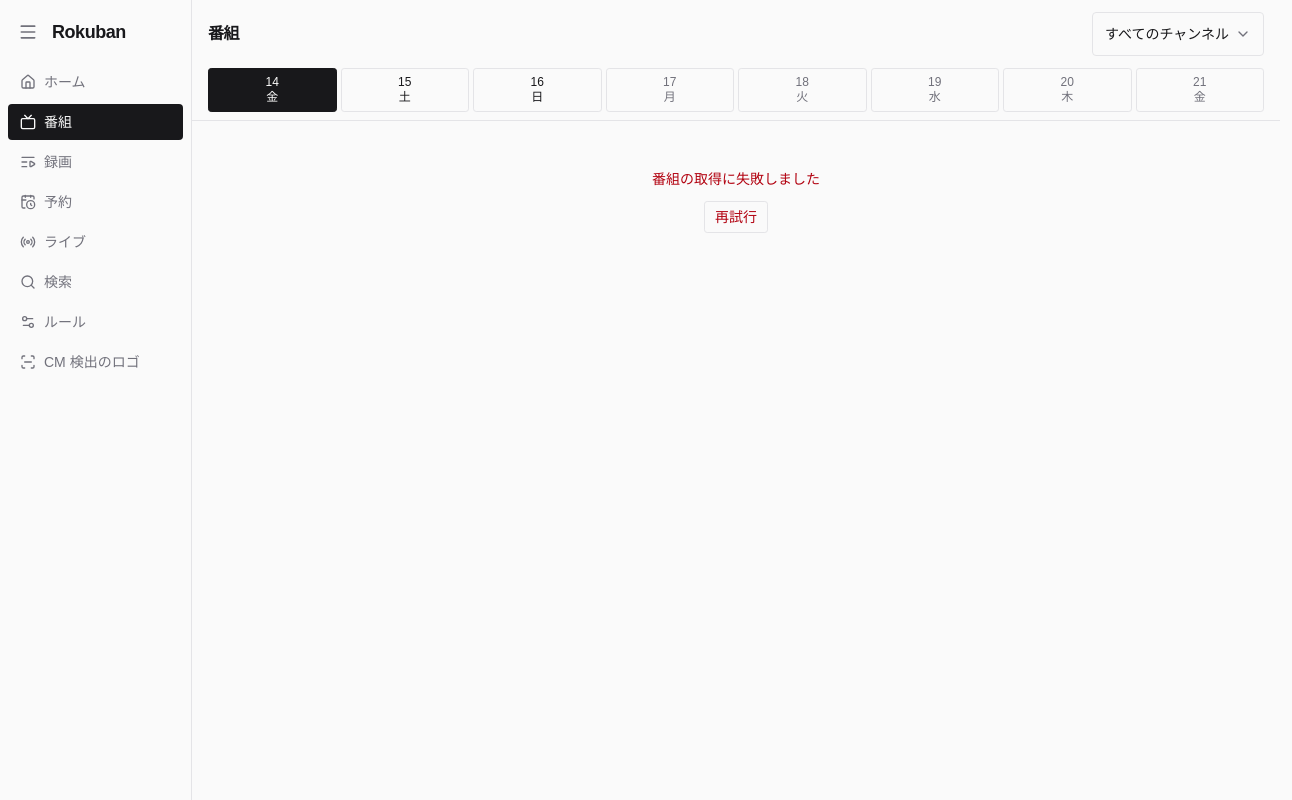
ProgramsPage の表示形式 › /api/sites の失敗を永久スケルトンにせず、再試行で一覧を復旧する
Check: the text "番組の取得に失敗しました" is shown, box [652,169,820,189]
Click the button "再試行" at (736, 217), box [704,201,768,233]
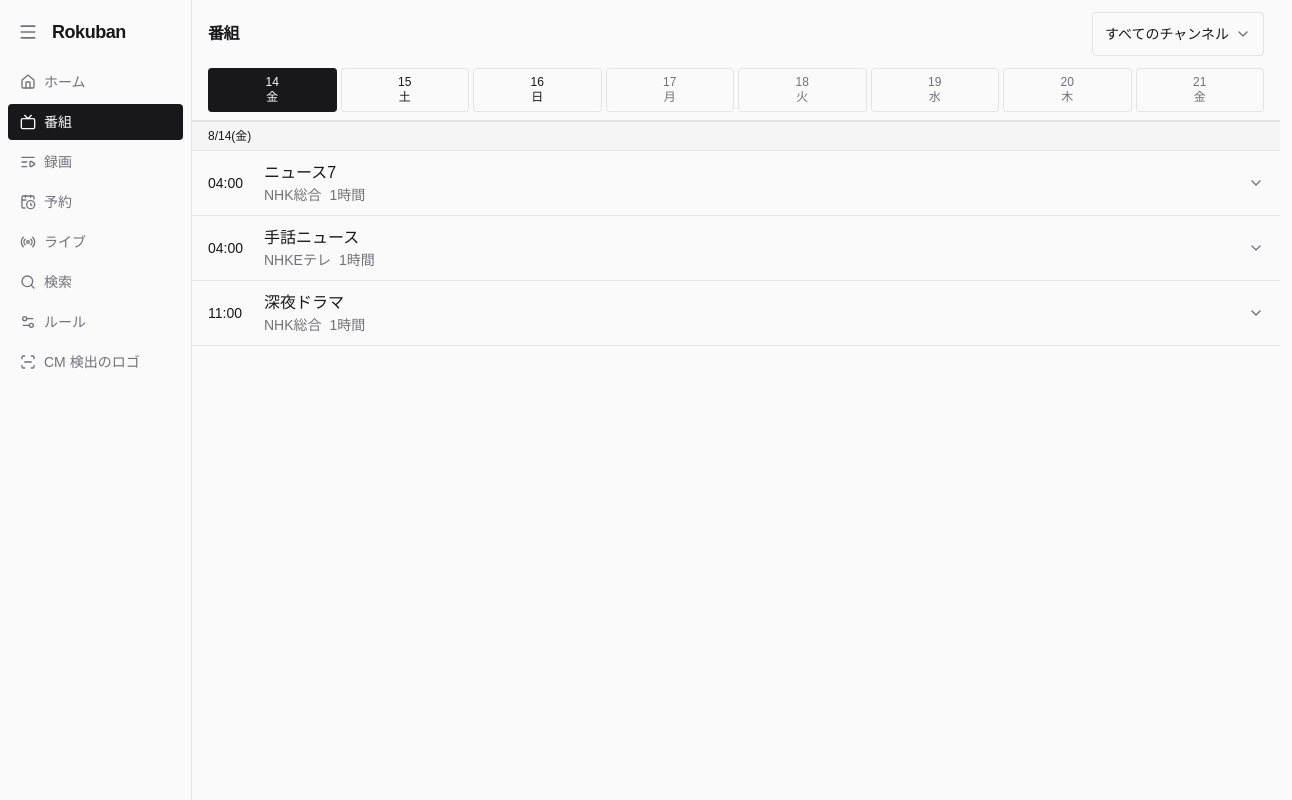
Check: the text "ニュース7" is shown, box [264,164,336,181]
